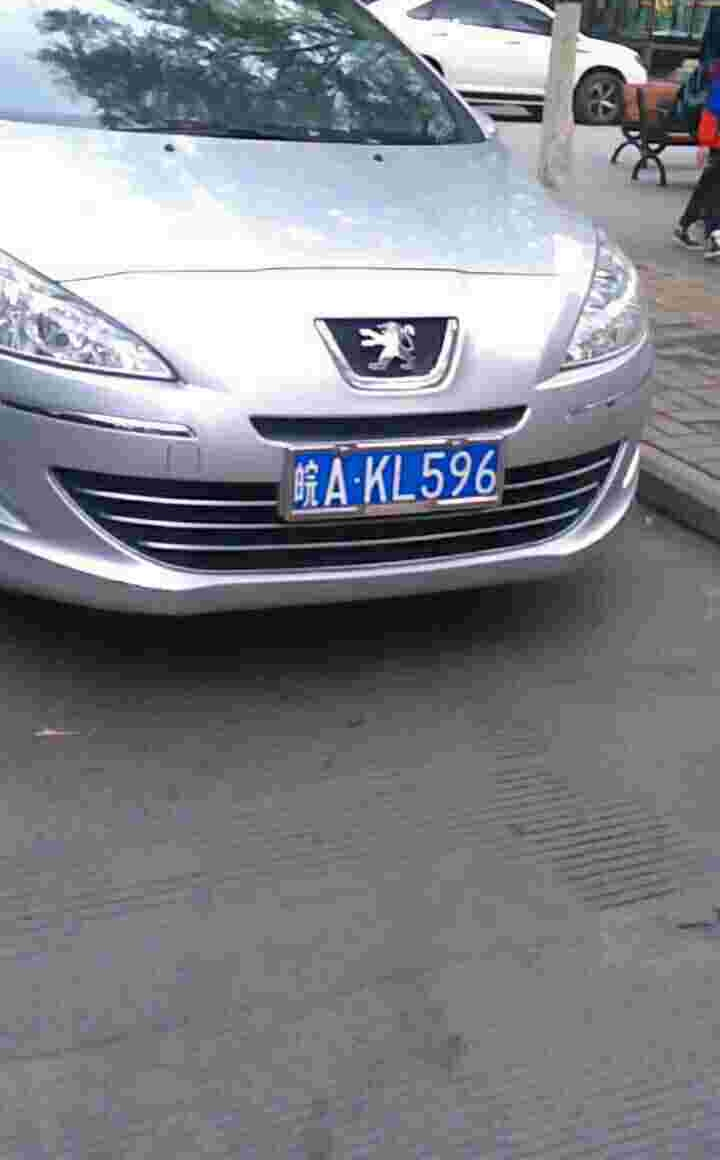license_plate: (286, 442, 497, 508)
